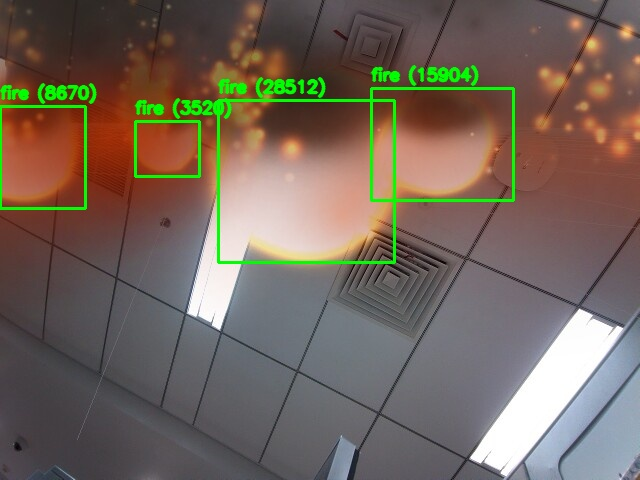fire: (218, 100, 394, 262), (371, 88, 513, 200), (0, 106, 85, 208), (135, 121, 199, 176)
